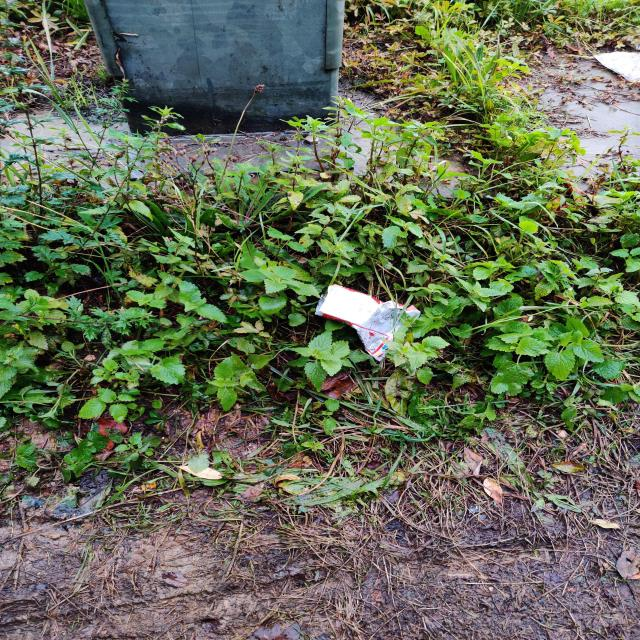litter: (309, 281, 424, 364)
